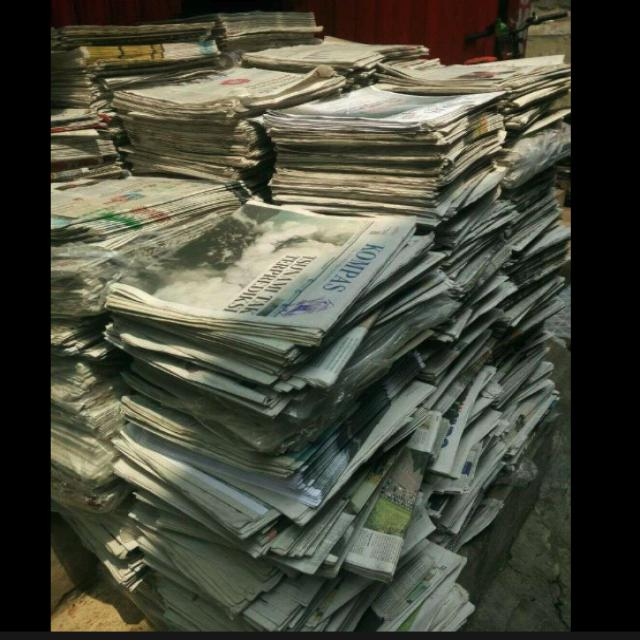Koran: (48, 10, 571, 632)
